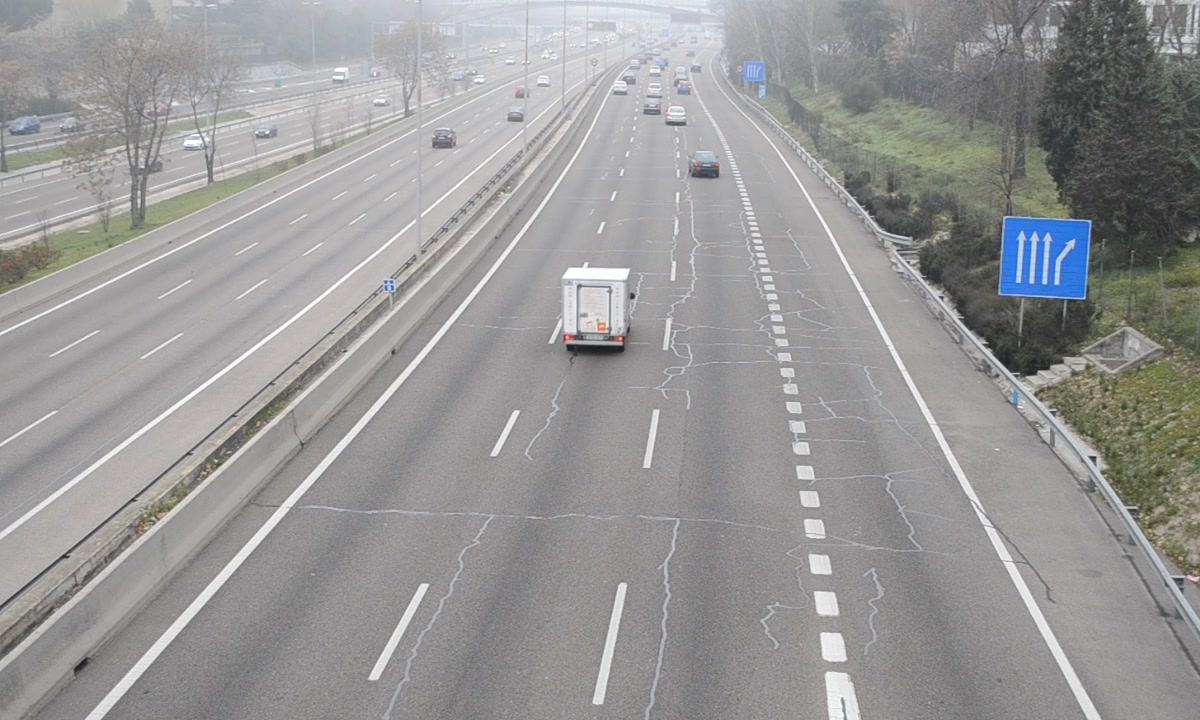car: (687, 148, 719, 177)
small-truck: (563, 267, 634, 349)
